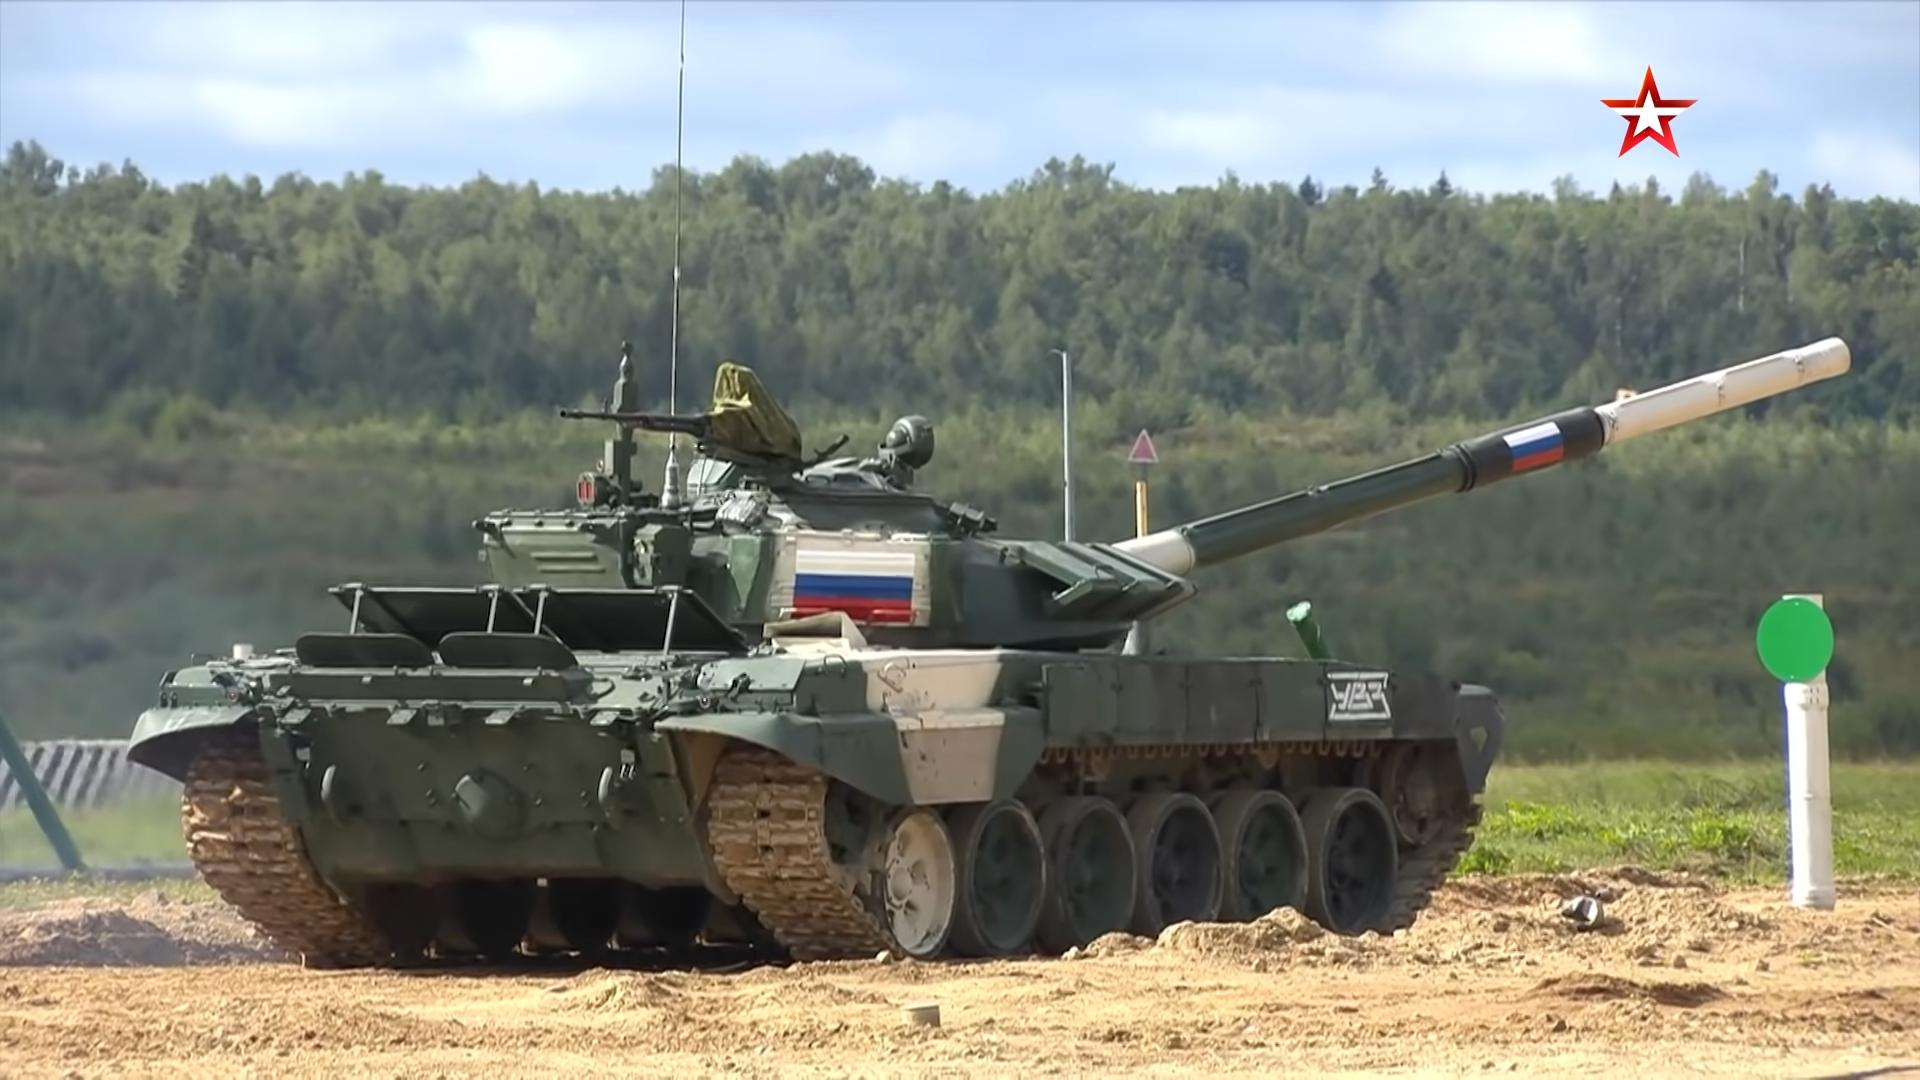tank: (127, 235, 1851, 969)
